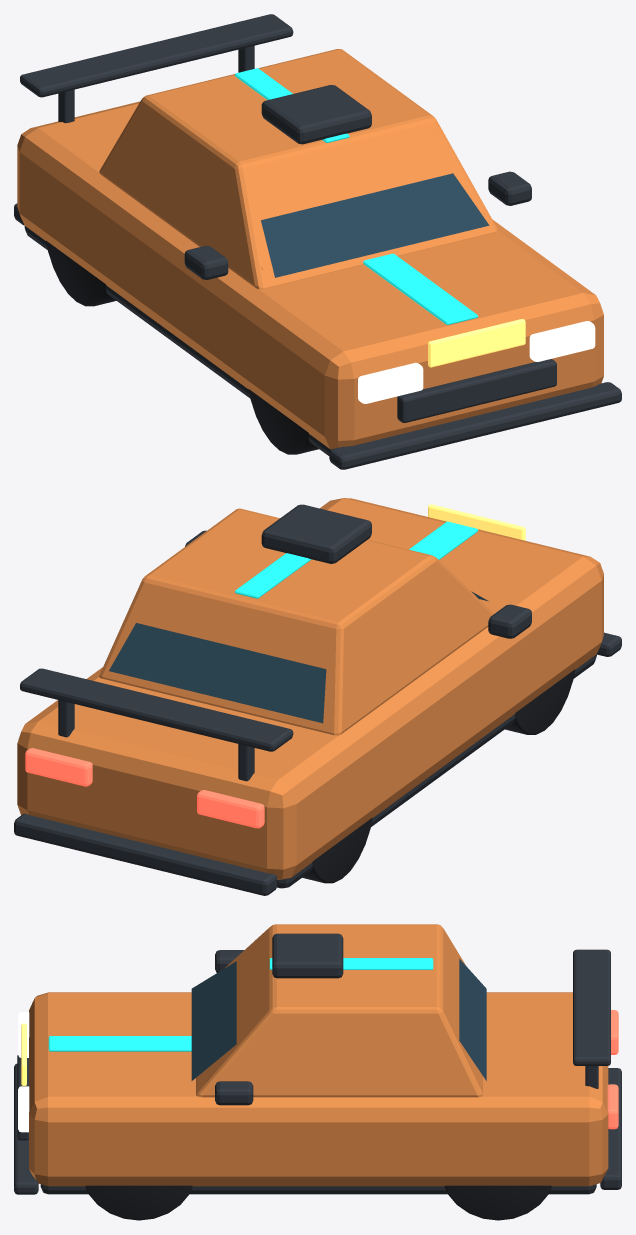
File: hero_car.glb
3 views of the same model, one above another, from view 1: azimuth 30°, elevation 25°; view 2: azimuth 150°, elevation 25°; view 3: azimuth 270°, elevation 25° (orthographic). The views are drawn at different scales.
Parts seen in each view (by area): view 1: Hero_Body, Hero_Cabin, Hero_Windshield, Hero_Spoiler, Hero_Front_Splitter, Hero_Grille, Hero_Roof_Scoop, Hero_Hood_Stripe, Hero_Number_Bar, Hero_Headlamp_R, Hero_Headlamp_L, Wheel_RL (+5 smaller); view 2: Hero_Body, Hero_Cabin, Hero_Rear_Glass, Hero_Spoiler, Hero_Rear_Diffuser, Hero_Roof_Scoop, Wheel_RL, Wheel_FL, Hero_Taillamp_R, Hero_Taillamp_L, Hero_Lower_Skirt, Hero_Roof_Stripe (+5 smaller); view 3: Hero_Body, Hero_Cabin, Hero_Spoiler, Hero_Windshield, Hero_Roof_Scoop, Hero_Lower_Skirt, Wheel_FR, Wheel_RR, Hero_Rear_Glass, Hero_Hood_Stripe, Hero_Rear_Diffuser, Hero_Front_Splitter (+4 smaller).
Boxes of the visible parts, x1,y1,x2,y2 form: Hero_Body: (17, 101, 603, 449); Hero_Cabin: (99, 49, 497, 289); Hero_Windshield: (261, 173, 489, 277); Hero_Spoiler: (20, 14, 293, 97); Hero_Front_Splitter: (329, 382, 621, 469); Hero_Grille: (397, 359, 556, 422); Hero_Roof_Scoop: (261, 85, 371, 144); Hero_Hood_Stripe: (363, 253, 477, 324); Hero_Number_Bar: (428, 319, 525, 367); Hero_Headlamp_R: (529, 321, 595, 361); Hero_Headlamp_L: (358, 362, 423, 403); Wheel_RL: (46, 240, 116, 306); Hero_Body: (17, 498, 603, 879); Hero_Cabin: (99, 508, 493, 735); Hero_Rear_Glass: (109, 623, 326, 723); Hero_Spoiler: (20, 668, 293, 751); Hero_Rear_Diffuser: (14, 813, 277, 895); Hero_Roof_Scoop: (261, 504, 371, 563); Wheel_RL: (302, 817, 372, 883); Wheel_FL: (505, 669, 575, 734); Hero_Taillamp_R: (25, 748, 92, 786); Hero_Taillamp_L: (197, 790, 264, 828); Hero_Lower_Skirt: (277, 654, 596, 888); Hero_Roof_Stripe: (235, 553, 311, 598); Hero_Body: (29, 992, 608, 1186); Hero_Cabin: (196, 924, 482, 1097); Hero_Spoiler: (573, 949, 610, 1065); Hero_Windshield: (191, 961, 236, 1080); Hero_Roof_Scoop: (272, 933, 343, 978); Hero_Lower_Skirt: (40, 1184, 596, 1194); Wheel_FR: (85, 1185, 192, 1220); Wheel_RR: (444, 1185, 551, 1220); Hero_Rear_Glass: (459, 959, 486, 1080); Hero_Hood_Stripe: (48, 1036, 191, 1051); Hero_Rear_Diffuser: (600, 1068, 621, 1189); Hero_Front_Splitter: (14, 1063, 38, 1194).
Size of the model in its own units: 2.48 by 1.75 by 4.46.
